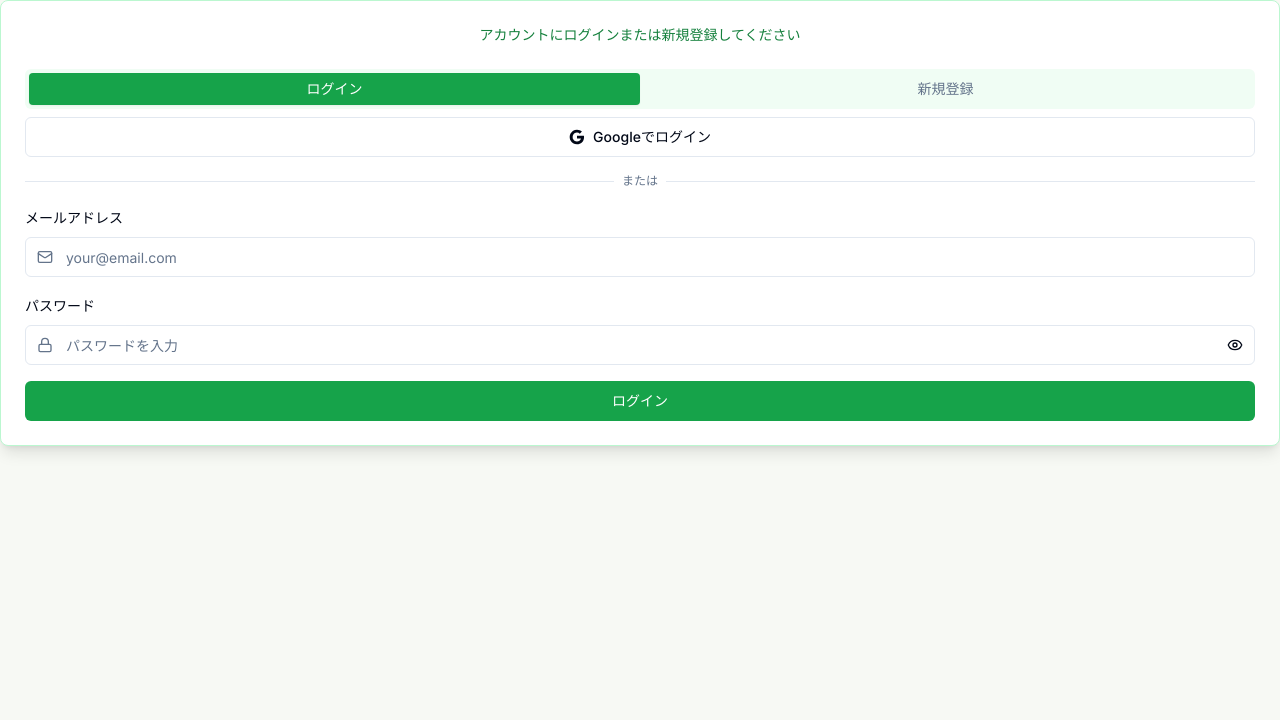
it: 認証エッジケーステスト › ネットワークエラーのテスト › Googleログイン時のネットワークエラー
Click the button "Googleでログイン" at [640, 137], box [25,117,1255,157]
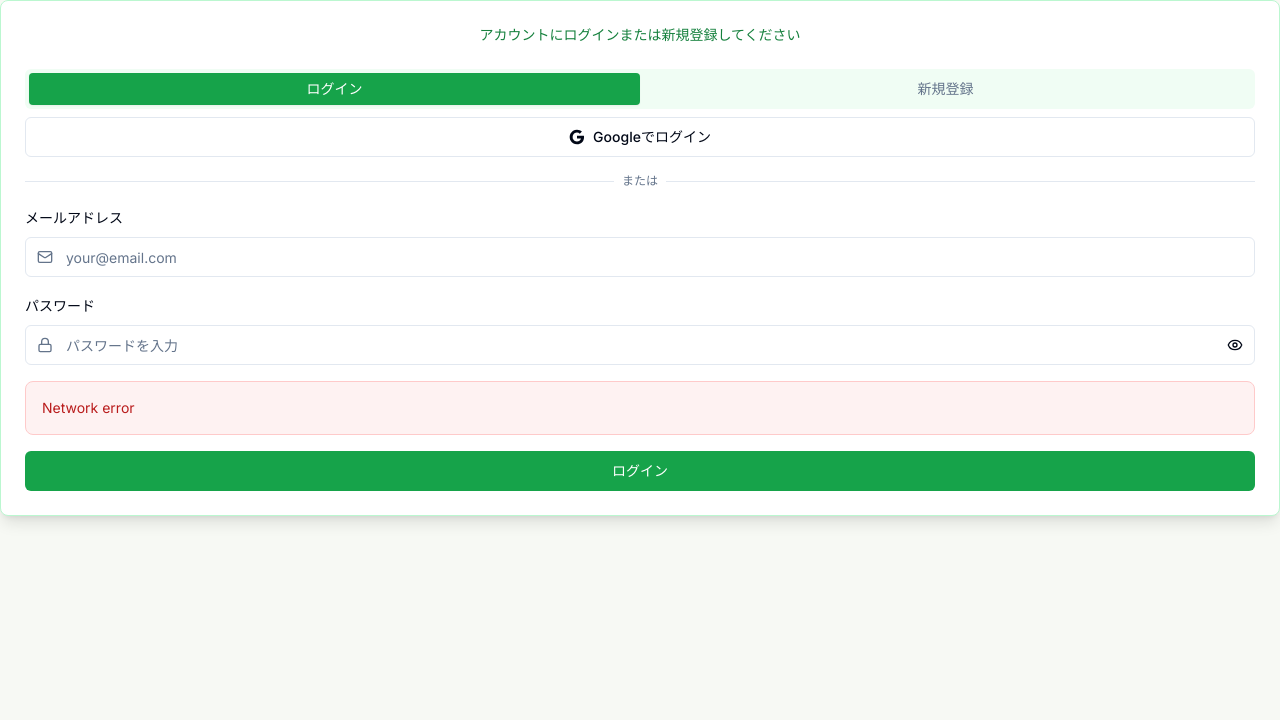
Result: the text "Network error" is shown at [42,399,135,416]
